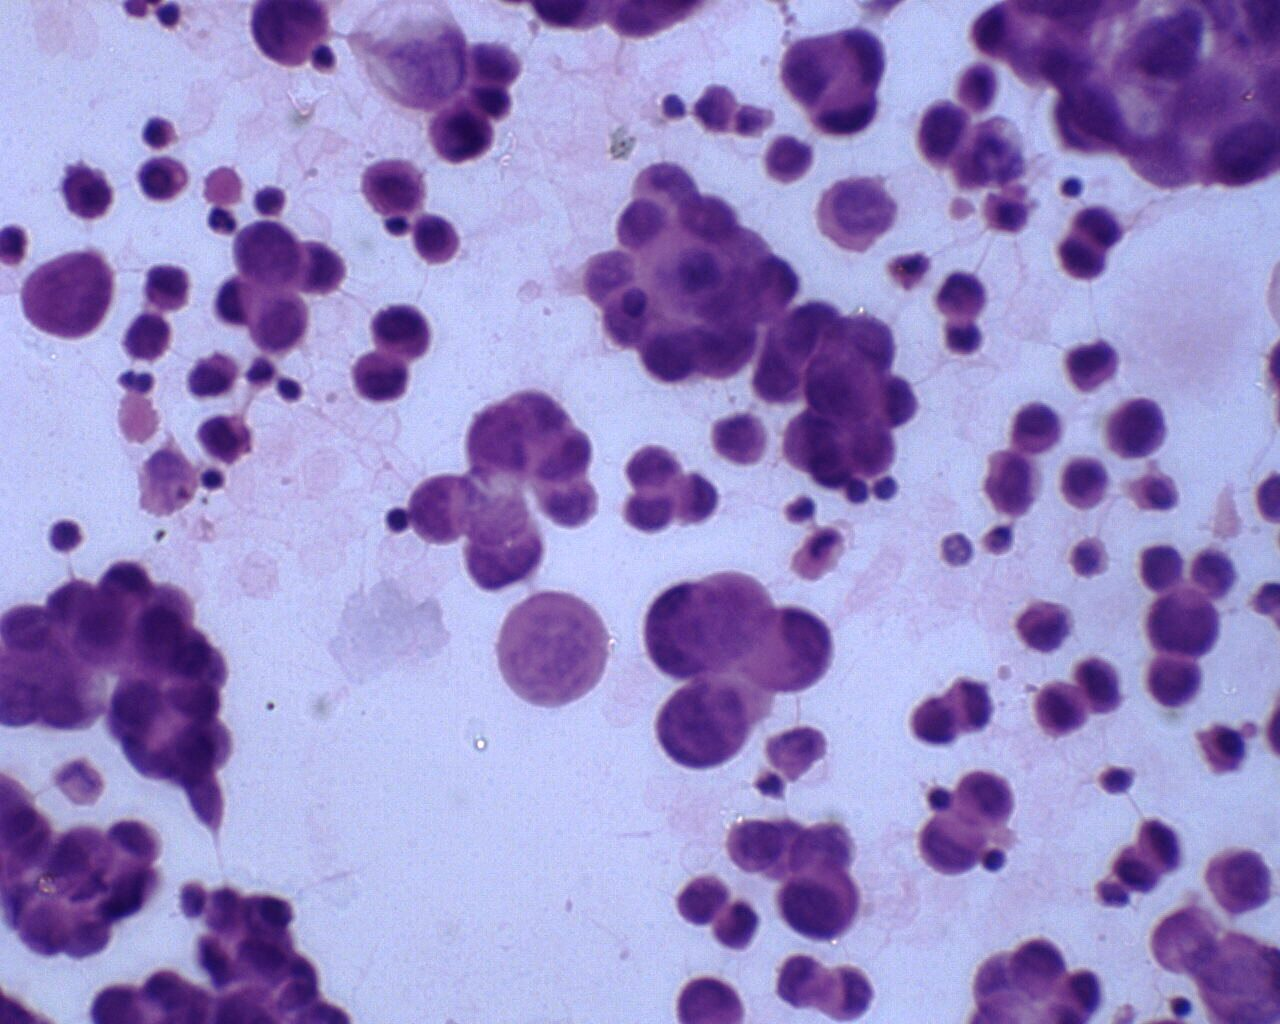ab: (650, 674, 757, 775), (16, 243, 116, 344), (748, 602, 838, 695), (777, 861, 866, 944), (225, 210, 307, 293), (802, 342, 888, 420), (1140, 581, 1223, 661), (357, 149, 435, 222), (630, 315, 703, 389), (1205, 842, 1276, 918), (408, 471, 478, 546), (427, 97, 501, 166), (1106, 388, 1173, 457), (916, 810, 983, 879), (366, 297, 437, 360), (954, 766, 1019, 828), (917, 98, 973, 170)
lymph: (1054, 170, 1091, 206), (868, 472, 899, 506)
